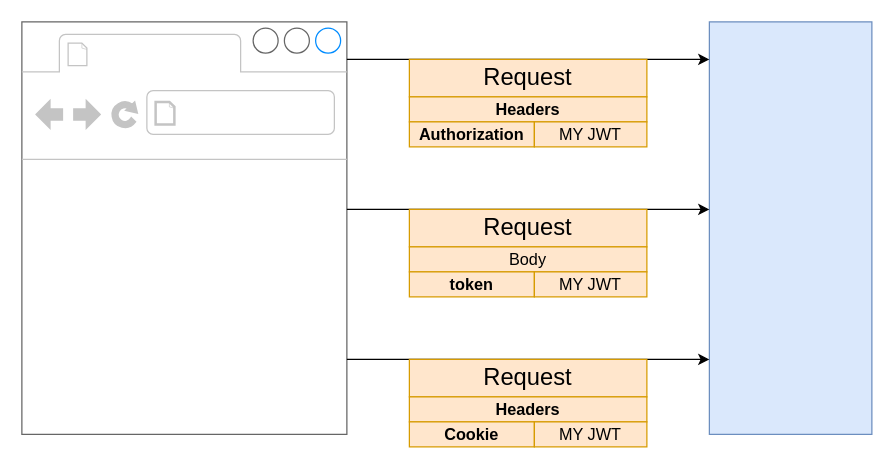
Image size: 894x469. Some labels were removed from this diagram. Each missing label, with the centre of its shape:
"Page 1" belongs at [165,52].
"Server" belongs at [790,227].
